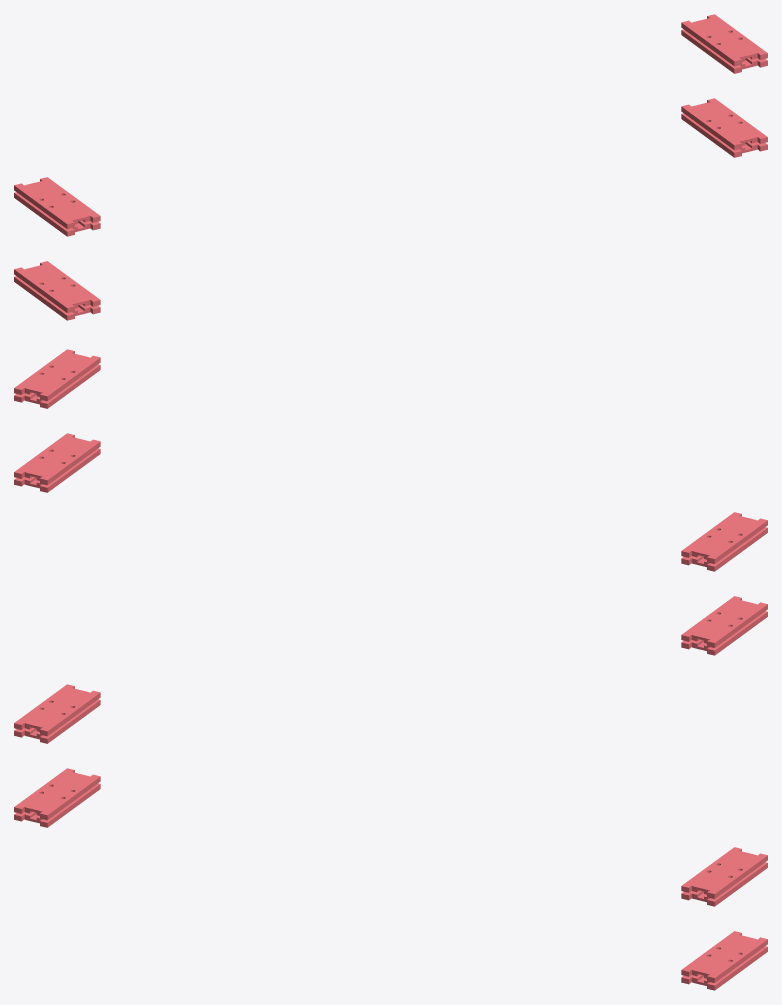
Rendered from BATTERY MODULE V2__SPINE ASM FRONT STOP__SPINE BASE.glb.
3 renders of one model, top to bottom at view 1: azimuth 30°, elevation 25°; view 2: azimuth 150°, elevation 25°; view 3: azimuth 330°, elevation 25°, orthographic.
Visible parts, largest first — view 1: SPINE BASE 1, SPINE BASE 4, SPINE BASE 6, SPINE BASE 7, SPINE BASE 2, SPINE BASE 5, SPINE BASE 3, SPINE BASE 8; view 2: SPINE BASE 1, SPINE BASE 4, SPINE BASE 6, SPINE BASE 7, SPINE BASE 2, SPINE BASE 5, SPINE BASE 3, SPINE BASE 8; view 3: SPINE BASE 6, SPINE BASE 7, SPINE BASE 1, SPINE BASE 4, SPINE BASE 5, SPINE BASE 2, SPINE BASE 8, SPINE BASE 3.
Part boxes in pixels (<box>): SPINE BASE 1: <box>681,98,767,150</box>; SPINE BASE 4: <box>681,14,767,66</box>; SPINE BASE 6: <box>14,261,100,312</box>; SPINE BASE 7: <box>14,177,100,228</box>; SPINE BASE 2: <box>681,29,767,73</box>; SPINE BASE 5: <box>14,192,100,236</box>; SPINE BASE 3: <box>681,113,767,157</box>; SPINE BASE 8: <box>14,276,100,320</box>; SPINE BASE 1: <box>14,433,100,485</box>; SPINE BASE 4: <box>14,349,100,401</box>; SPINE BASE 6: <box>681,596,767,647</box>; SPINE BASE 7: <box>681,512,767,563</box>; SPINE BASE 2: <box>14,364,100,408</box>; SPINE BASE 5: <box>681,527,767,571</box>; SPINE BASE 3: <box>14,448,100,492</box>; SPINE BASE 8: <box>681,611,767,655</box>; SPINE BASE 6: <box>14,768,100,820</box>; SPINE BASE 7: <box>14,684,100,736</box>; SPINE BASE 1: <box>681,931,767,982</box>; SPINE BASE 4: <box>681,847,767,898</box>; SPINE BASE 5: <box>14,699,100,743</box>; SPINE BASE 2: <box>681,862,767,906</box>; SPINE BASE 8: <box>14,783,100,827</box>; SPINE BASE 3: <box>681,946,767,990</box>.
Bounding box in the file's own units: 0.9291 × 0.1222 × 0.1222.
